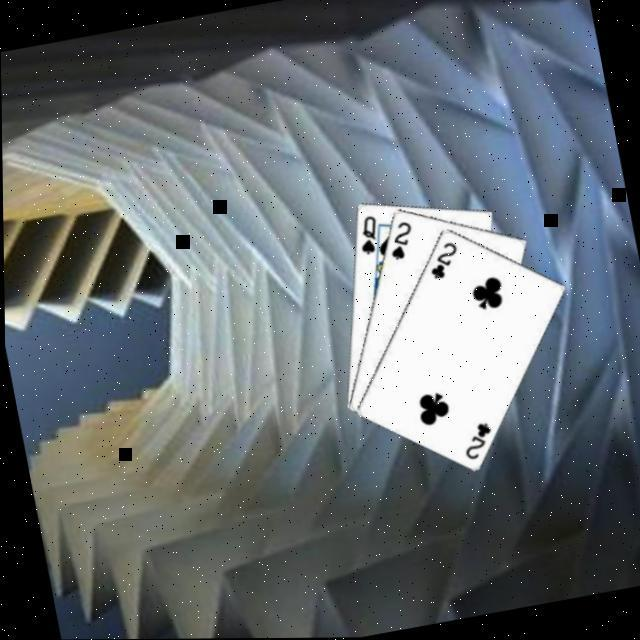2C: (423, 238, 466, 284), (458, 420, 498, 465)
2S: (383, 218, 421, 264)
QS: (354, 213, 386, 260)
